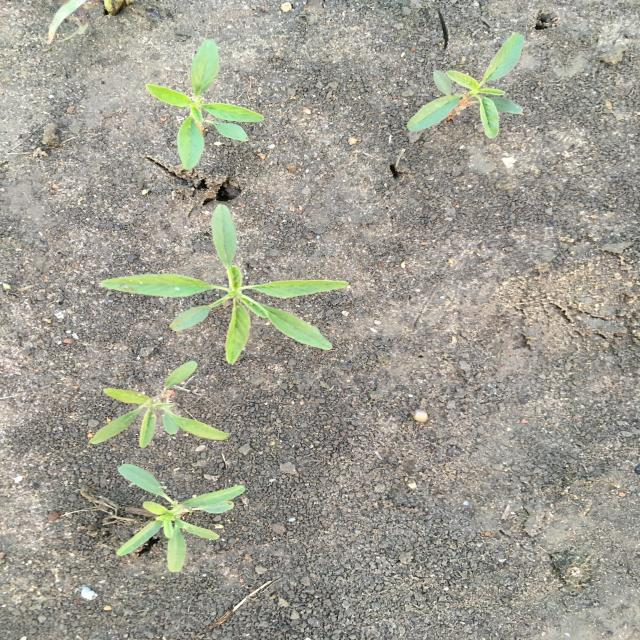Waterhemp: (98, 203, 352, 363), (144, 37, 268, 173), (114, 464, 249, 574), (404, 31, 528, 141), (89, 360, 232, 448)
